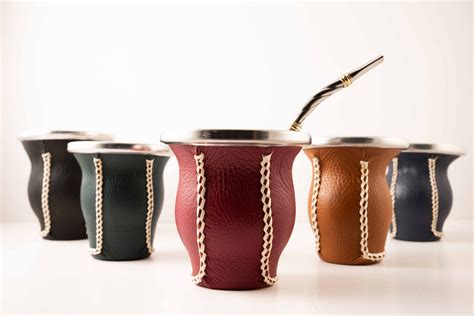cuero: (22, 133, 462, 292)
